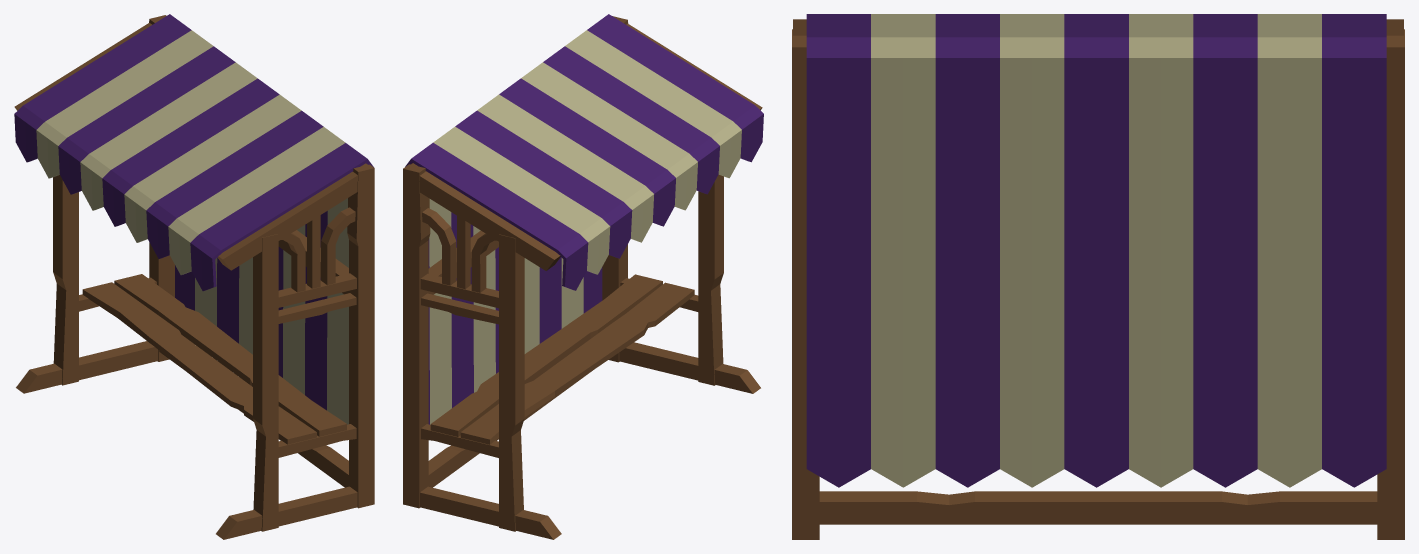
File: PuestoMercadillo2Lila.fbx
3 views of the same model, side by side, from view 1: azimuth 30°, elevation 25°; view 2: azimuth 150°, elevation 25°; view 3: azimuth 270°, elevation 25° (orthographic). The views are drawn at different scales.
Parts seen in each view (by area): view 1: MarketStand_2; view 2: MarketStand_2; view 3: MarketStand_2.
Part boxes in pixels (x1=…): MarketStand_2: x1=14, y1=14, x2=374, y2=539; MarketStand_2: x1=403, y1=14, x2=763, y2=539; MarketStand_2: x1=792, y1=14, x2=1404, y2=539.
Size of the model in its own units: 51.72 by 104 by 115.
